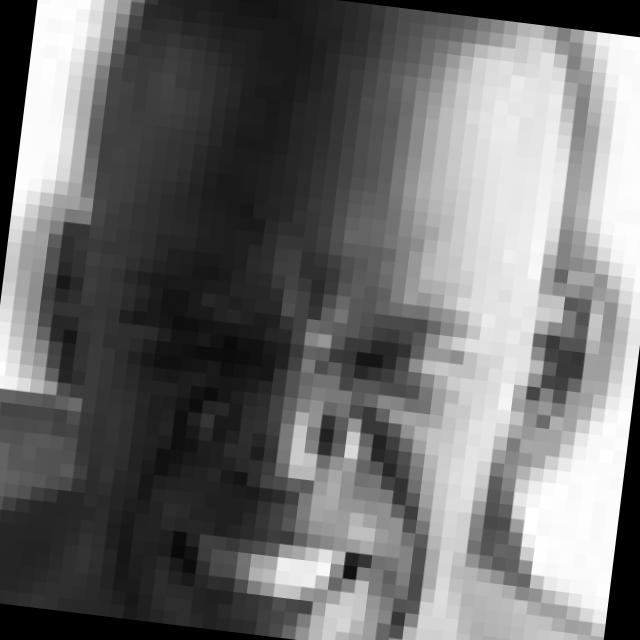angry: (66, 251, 489, 640)
